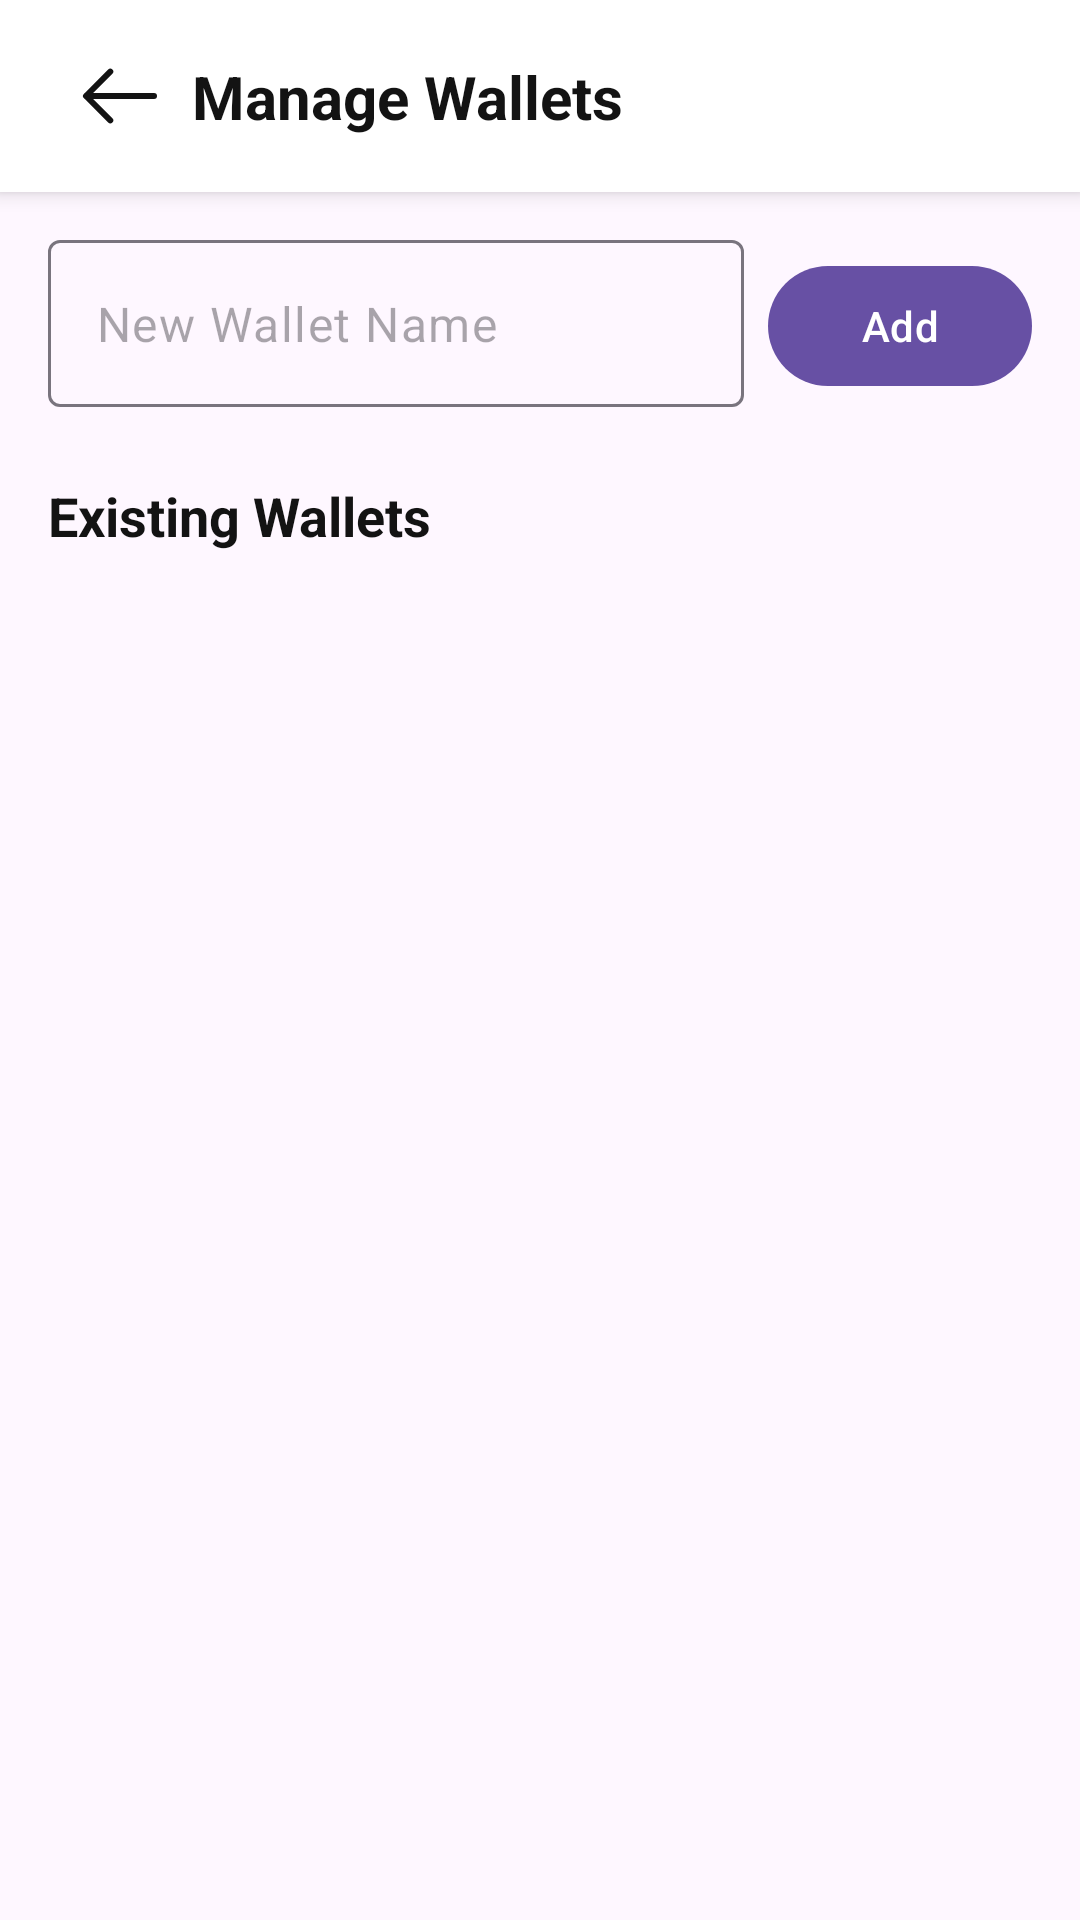

Where icons sit on this 1080×1920 app screen, as (x1, y1, x2, y2):
back: (83, 68, 157, 124)
